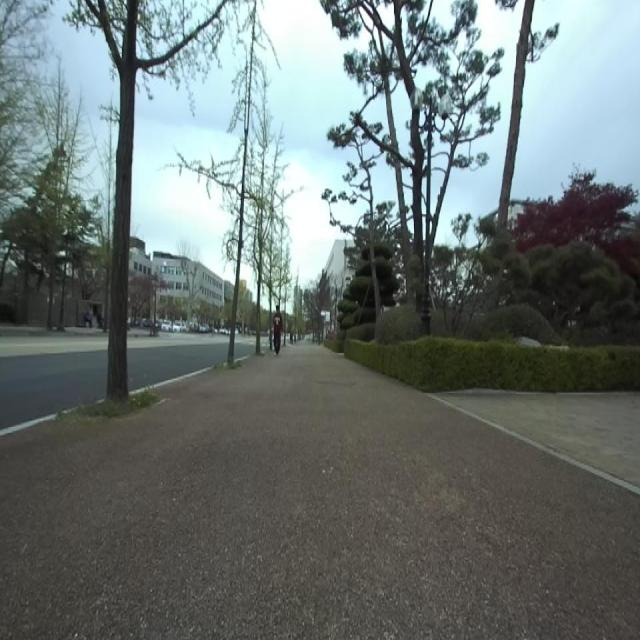sidewalk: (0, 343, 640, 639), (130, 367, 213, 394), (0, 413, 56, 436)
